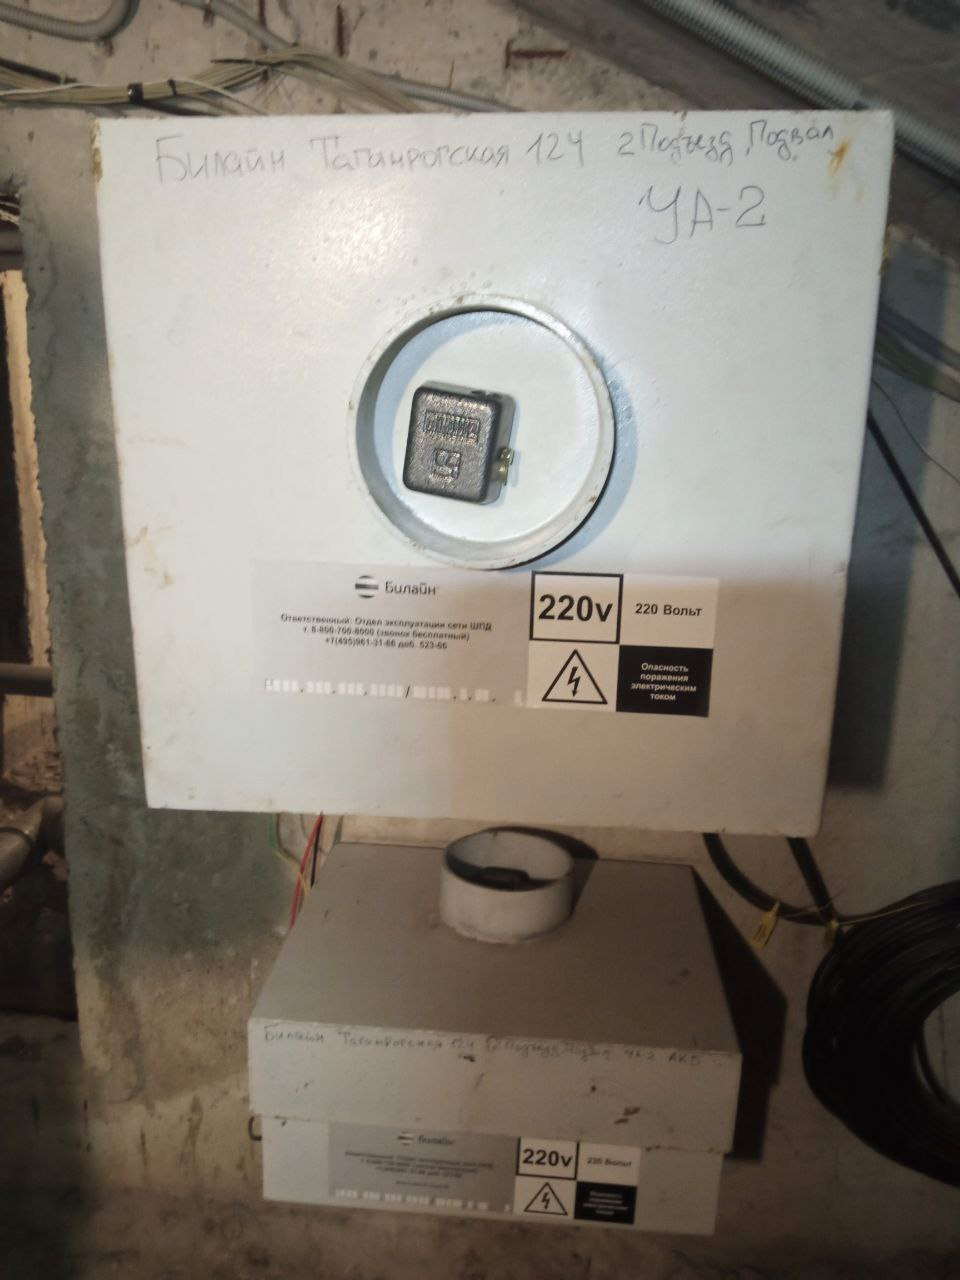shta-9: (81, 104, 903, 842)
shta-ps: (241, 825, 750, 1237)
